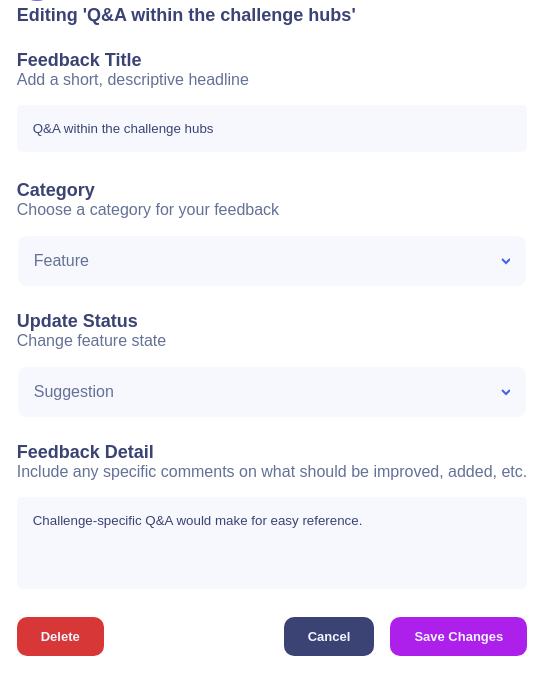
Edit Feedback page › should open status dropdown
(page scrolled)
Click the element with test id "status-dropdown": (272, 392) [17, 366, 527, 418]
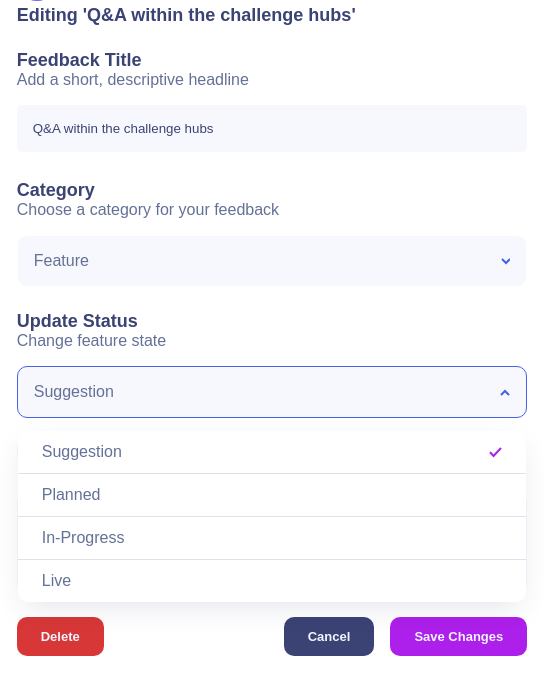
Result: the list item with test id "status-1" is shown at [42, 443, 502, 460]
Result: the list item with test id "status-2" is shown at [42, 486, 100, 503]
Result: the list item with test id "status-3" is shown at [42, 529, 124, 546]
